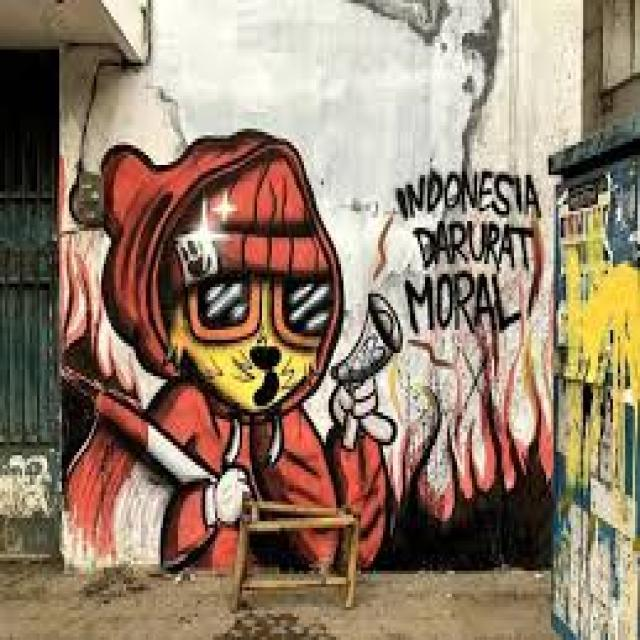-: (52, 128, 557, 565)
